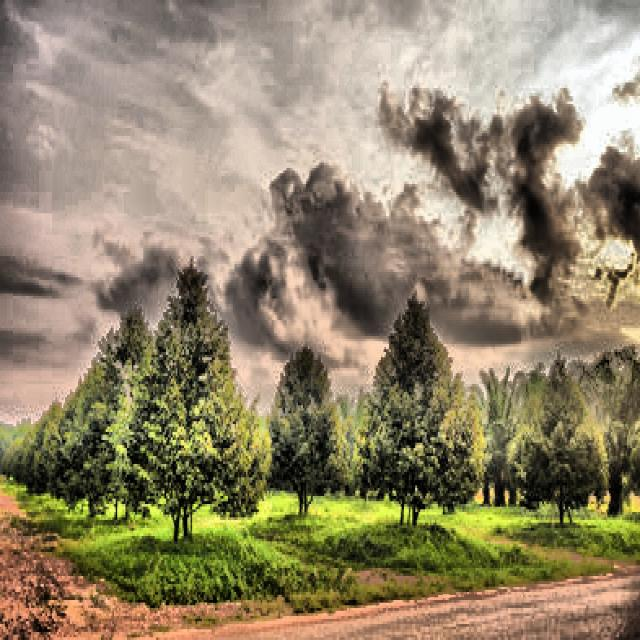arvore: (394, 458, 429, 542), (163, 466, 194, 554), (553, 464, 572, 526), (296, 449, 312, 521)
